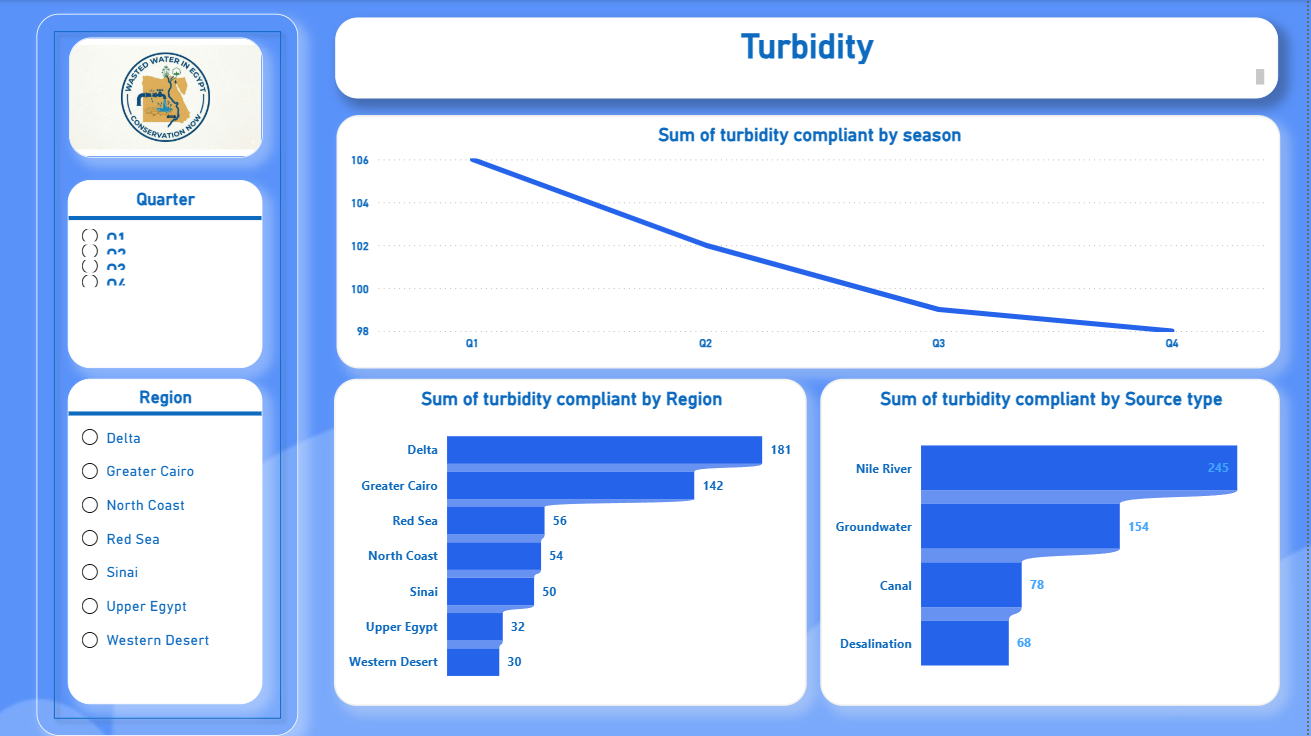

Layout of this report page (visuals, bound fields, positions):
{"tool":"powerbi","page":{"name":"turbidty","canvas":[1280,720],"ordinal":14},"visuals":[{"type":"lineChart","title":"Sum of turbidity compliant by season","fields":{"Category":["Calendar.Quarter"],"Y":["Sum(Test_Records.turbidity_compliant)"]},"box":[329.8,112.3,923,247.7],"z":0},{"type":"barChart","title":"Sum of turbidity compliant by Region","fields":{"Category":["Dim_Company.region"],"Y":["Sum(Test_Records.turbidity_compliant)"]},"box":[328.3,370.1,462.2,319.7],"z":1000},{"type":"barChart","title":"Sum of turbidity compliant by Source type","fields":{"Category":["Dim_Source.source_type"],"Y":["Sum(Test_Records.turbidity_compliant)"]},"box":[803.5,370.1,449.3,319.7],"z":2000},{"type":"textbox","title":"Turbidity","box":[329.1,16.7,922.1,78.9],"z":3000},{"type":"shape","box":[36.4,13.6,256.3,706.7],"z":4000},{"type":"image","box":[68.5,36.7,189.5,117.4],"z":5000},{"type":"listSlicer","fields":{"Values":["Calendar.Quarter"]},"box":[67.7,175.7,190.1,184.3],"z":6000},{"type":"listSlicer","title":"Region","fields":{"Values":["Dim_Company.region"]},"box":[67.7,370.1,190.1,318.2],"z":7000}]}

Visuals, with their boxes in screenshot pixels (x1, y1, x2, y2), scaled from the page's 1280x720 canvas onto the 1311x736 screenshot:
"Sum of turbidity compliant by season" lineChart: (x1=338, y1=115, x2=1283, y2=368)
"Sum of turbidity compliant by Region" barChart: (x1=336, y1=378, x2=810, y2=705)
"Sum of turbidity compliant by Source type" barChart: (x1=823, y1=378, x2=1283, y2=705)
"Turbidity" textbox: (x1=337, y1=17, x2=1282, y2=98)
shape: (x1=37, y1=14, x2=300, y2=735)
image: (x1=70, y1=38, x2=264, y2=158)
listSlicer - Calendar.Quarter: (x1=69, y1=180, x2=264, y2=368)
"Region" listSlicer: (x1=69, y1=378, x2=264, y2=704)
